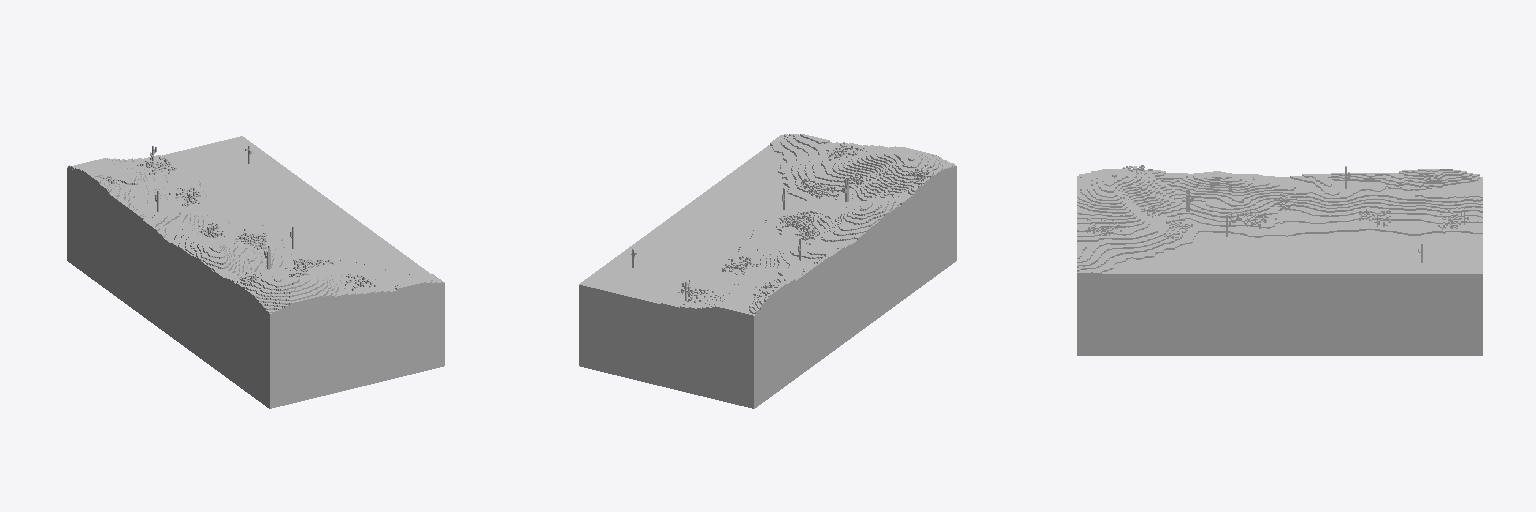
File: Sunkeny City -  Voxel Desert-8-tile 8.obj
The picture shows the model from 3 angles: view 1: azimuth 30°, elevation 25°; view 2: azimuth 150°, elevation 25°; view 3: azimuth 270°, elevation 25°; orthographic projection.
Visible parts, largest first — view 1: tile 8; view 2: tile 8; view 3: tile 8.
Part boxes in pixels (bbox=[...]): tile 8: bbox=[67, 136, 444, 408]; tile 8: bbox=[579, 134, 956, 408]; tile 8: bbox=[1077, 165, 1482, 355].
Size of the model in its own units: 12.8 by 8 by 25.6.